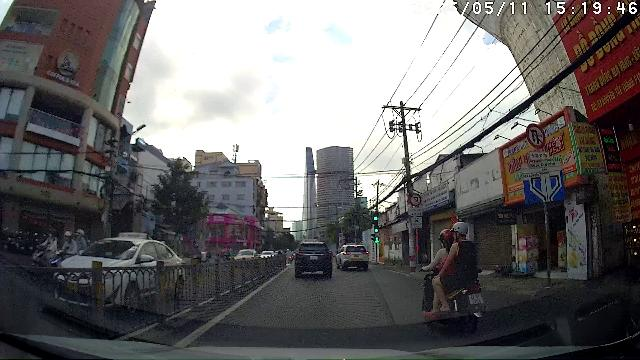103c-cam-oto-re-trai: (409, 193, 422, 206)
124b-cam-oto-quay-dau-xe: (526, 123, 546, 149)
